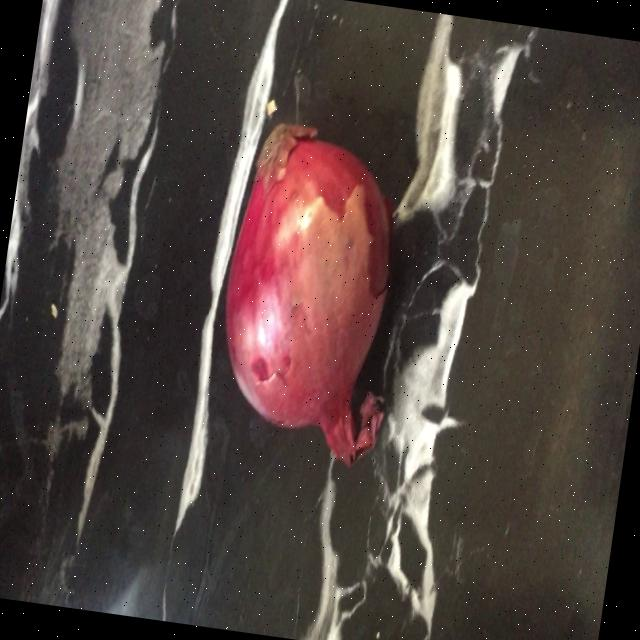Onion: (225, 122, 391, 465)
